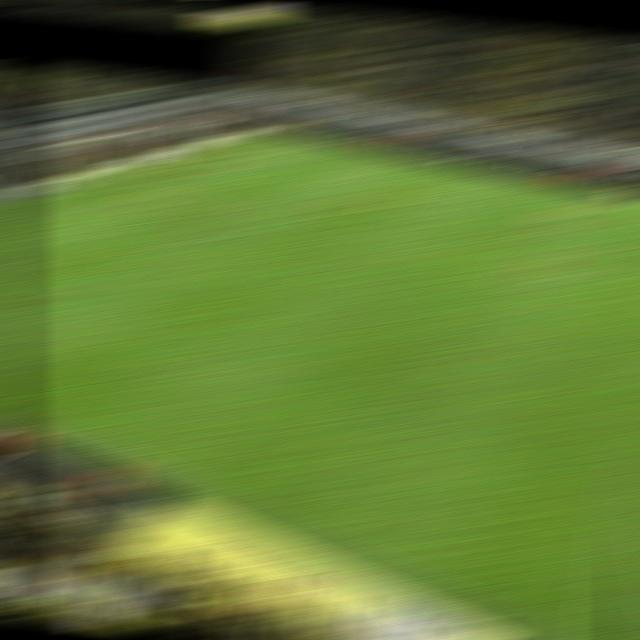bigarea_bottom_inner: (62, 281, 101, 293)
bigarea_top_inner: (310, 167, 346, 180)
bigarea_top_outter: (185, 144, 222, 153)
bottom_arc_area_intersection: (169, 231, 211, 244)
corner: (244, 130, 278, 136)
midline_bottom_intersection: (566, 636, 624, 638)
smallarea_bottom_inner: (53, 212, 89, 222)
smallarea_bottom_outter: (3, 199, 40, 208)
smallarea_top_inner: (170, 169, 207, 179)
smallarea_top_outter: (127, 161, 167, 171)
top_arc_area_intersection: (255, 192, 293, 207)
